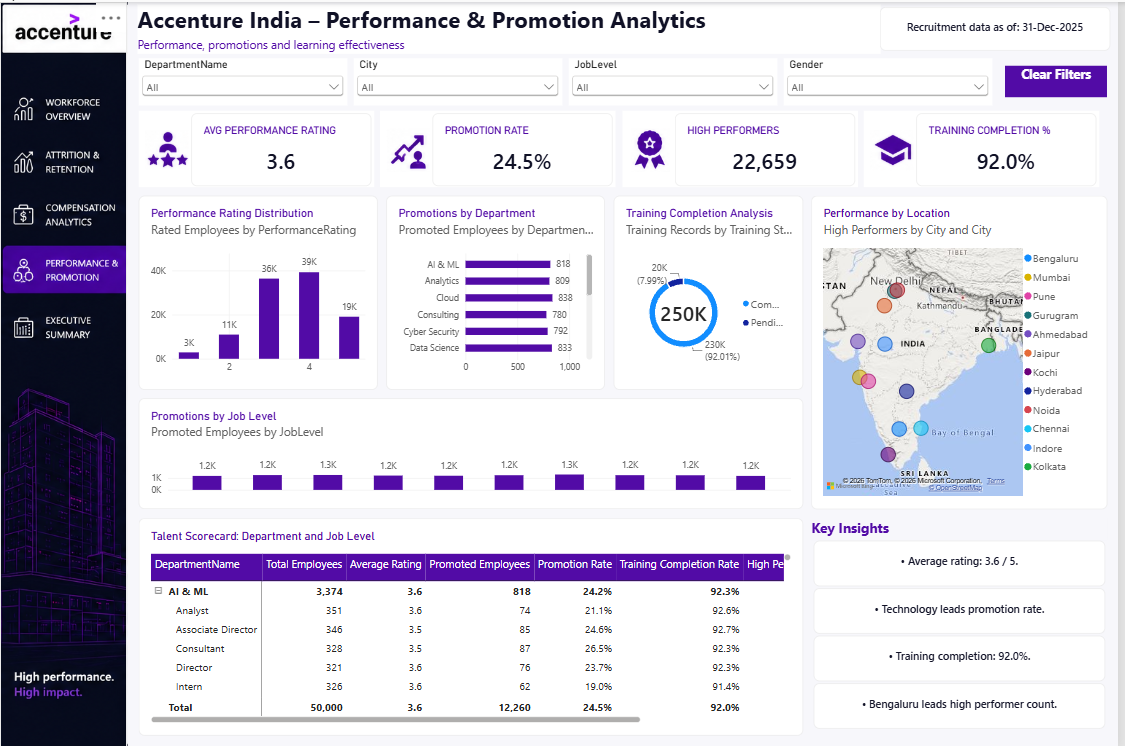

This screenshot's page, from the dashboard's own definition file:
{"tool":"powerbi","page":{"name":"Performance & Promotion","canvas":[1536,1024],"ordinal":3},"visuals":[{"type":"textbox","box":[175,0,1361,1024],"z":1},{"type":"image","box":[0,0,175,1024],"z":2},{"type":"textbox","box":[188,4,1020,43],"z":8},{"type":"textbox","box":[188,46,1020,25],"z":9},{"type":"card","fields":{"Values":["DimEmployee.Reporting Date Label"]},"box":[1208,7,316,60],"z":10},{"type":"slicer","title":"Department","fields":{"Values":["DimDepartment.DepartmentName"]},"box":[190,77,286,65],"z":11},{"type":"slicer","title":"Location","fields":{"Values":["DimLocation.City"]},"box":[485,77,286,65],"z":12},{"type":"slicer","title":"Job Level","fields":{"Values":["DimJobLevel.JobLevel"]},"box":[780,77,286,65],"z":13},{"type":"slicer","title":"Gender","fields":{"Values":["DimEmployee.Gender"]},"box":[1075,77,286,65],"z":14},{"type":"textbox","box":[1380,87,140,43],"z":15},{"type":"textbox","box":[190,150,323,105],"z":17},{"type":"image","box":[199,173,60,60],"z":18},{"type":"card","title":"AVG PERFORMANCE RATING","fields":{"Values":["DimEmployee.Average Rating"]},"box":[262,152,247,100],"z":19},{"type":"textbox","box":[522,150,323,105],"z":20},{"type":"image","box":[531,173,60,60],"z":21},{"type":"card","title":"PROMOTION RATE","fields":{"Values":["DimEmployee.Promotion Rate"]},"box":[594,152,247,100],"z":22},{"type":"textbox","box":[854,150,323,105],"z":23},{"type":"image","box":[863,173,60,60],"z":24},{"type":"card","title":"HIGH PERFORMERS","fields":{"Values":["DimEmployee.High Performers"]},"box":[926,152,247,100],"z":25},{"type":"textbox","box":[1186,150,323,105],"z":26},{"type":"image","box":[1195,173,60,60],"z":27},{"type":"card","title":"TRAINING COMPLETION %","fields":{"Values":["DimEmployee.Training Completion Rate"]},"box":[1258,152,247,100],"z":28},{"type":"clusteredColumnChart","title":"Performance Rating Distribution","fields":{"Category":["FactPerformance.PerformanceRating"],"Y":["DimEmployee.Rated Employees"]},"box":[190,266,328,266],"z":29},{"type":"clusteredBarChart","title":"Promotions by Department","fields":{"Category":["DimDepartment.DepartmentName"],"Y":["DimEmployee.Promoted Employees"]},"box":[530,266,300,266],"z":30},{"type":"donutChart","title":"Training Completion Analysis","fields":{"Category":["FactTraining.Training Status"],"Y":["DimEmployee.Training Records"]},"box":[842,266,260,266],"z":31},{"type":"map","title":"Performance by Location","fields":{"Category":["DimLocation.City"],"Size":["DimEmployee.High Performers"],"Series":["DimLocation.City"]},"box":[1114,266,406,430],"z":32},{"type":"clusteredColumnChart","title":"Promotions by Job Level","fields":{"Category":["DimJobLevel.JobLevel"],"Y":["DimEmployee.Promoted Employees"]},"box":[190,544,912,152],"z":33},{"type":"pivotTable","title":"Talent Scorecard: Department and Job Level","fields":{"Rows":["DimDepartment.DepartmentName","DimJobLevel.JobLevel"],"Values":["DimEmployee.Total Employees","DimEmployee.Average Rating","DimEmployee.Promoted Employees","DimEmployee.Promotion Rate","DimEmployee.Training Completion Rate","DimEmployee.High Performers","DimEmployee.High Performer Share"]},"box":[190,708,912,298],"z":34},{"type":"textbox","box":[1114,708,406,30],"z":35},{"type":"card","fields":{"Values":["DimEmployee.P Insight 1"]},"box":[1117,740,400,62],"z":36},{"type":"card","fields":{"Values":["DimEmployee.P Insight 2"]},"box":[1117,805,400,62],"z":37},{"type":"card","fields":{"Values":["DimEmployee.P Insight 3"]},"box":[1117,870,400,62],"z":38},{"type":"card","fields":{"Values":["DimEmployee.P Insight 4"]},"box":[1117,935,400,62],"z":39},{"type":"actionButton","box":[4,115,170,64],"z":902},{"type":"actionButton","box":[4,190,170,64],"z":903},{"type":"actionButton","box":[4,265,170,64],"z":904},{"type":"actionButton","box":[4,340,170,64],"z":905},{"type":"actionButton","box":[4,415,170,64],"z":906},{"type":"actionButton","box":[1380,87,140,43],"z":915}]}

Visuals, with their boxes on the page's 1536x1024 design canvas (x1, y1, x2, y2). These are canvas units, not pixel positions in the 1125x746 screenshot, which may show the page scaled, cropped or inside an application window:
textbox: bbox(175, 0, 1536, 1024)
image: bbox(0, 0, 175, 1024)
textbox: bbox(188, 4, 1208, 47)
textbox: bbox(188, 46, 1208, 71)
card - DimEmployee.Reporting Date Label: bbox(1208, 7, 1524, 67)
"Department" slicer: bbox(190, 77, 476, 142)
"Location" slicer: bbox(485, 77, 771, 142)
"Job Level" slicer: bbox(780, 77, 1066, 142)
"Gender" slicer: bbox(1075, 77, 1361, 142)
textbox: bbox(1380, 87, 1520, 130)
textbox: bbox(190, 150, 513, 255)
image: bbox(199, 173, 259, 233)
"AVG PERFORMANCE RATING" card: bbox(262, 152, 509, 252)
textbox: bbox(522, 150, 845, 255)
image: bbox(531, 173, 591, 233)
"PROMOTION RATE" card: bbox(594, 152, 841, 252)
textbox: bbox(854, 150, 1177, 255)
image: bbox(863, 173, 923, 233)
"HIGH PERFORMERS" card: bbox(926, 152, 1173, 252)
textbox: bbox(1186, 150, 1509, 255)
image: bbox(1195, 173, 1255, 233)
"TRAINING COMPLETION %" card: bbox(1258, 152, 1505, 252)
"Performance Rating Distribution" clusteredColumnChart: bbox(190, 266, 518, 532)
"Promotions by Department" clusteredBarChart: bbox(530, 266, 830, 532)
"Training Completion Analysis" donutChart: bbox(842, 266, 1102, 532)
"Performance by Location" map: bbox(1114, 266, 1520, 696)
"Promotions by Job Level" clusteredColumnChart: bbox(190, 544, 1102, 696)
"Talent Scorecard: Department and Job Level" pivotTable: bbox(190, 708, 1102, 1006)
textbox: bbox(1114, 708, 1520, 738)
card - DimEmployee.P Insight 1: bbox(1117, 740, 1517, 802)
card - DimEmployee.P Insight 2: bbox(1117, 805, 1517, 867)
card - DimEmployee.P Insight 3: bbox(1117, 870, 1517, 932)
card - DimEmployee.P Insight 4: bbox(1117, 935, 1517, 997)
actionButton: bbox(4, 115, 174, 179)
actionButton: bbox(4, 190, 174, 254)
actionButton: bbox(4, 265, 174, 329)
actionButton: bbox(4, 340, 174, 404)
actionButton: bbox(4, 415, 174, 479)
actionButton: bbox(1380, 87, 1520, 130)
